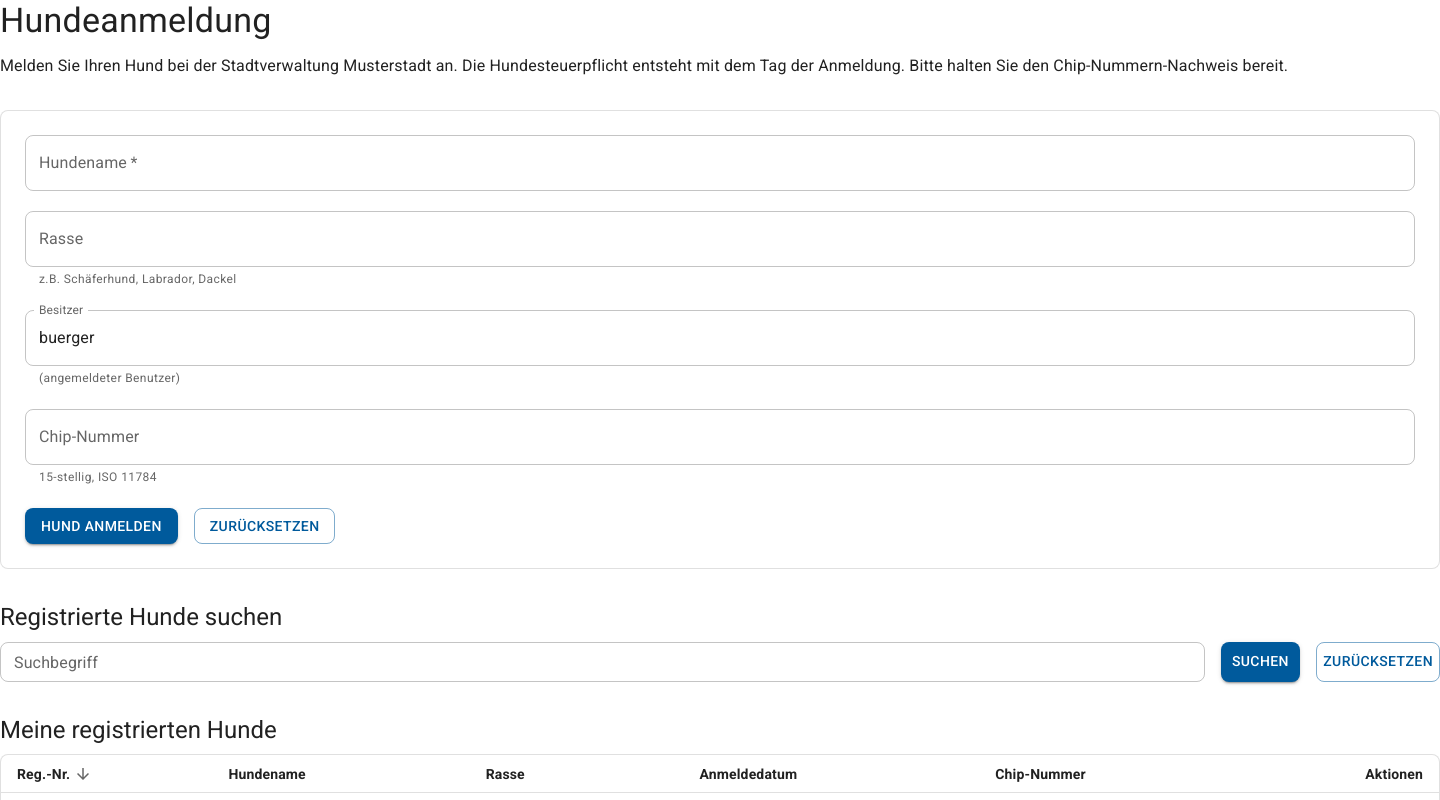
DogRegistrationPage › searches and resets the search
The width and height of the screenshot is (1440, 800).
Type "Bello" into the field labelled "Suchbegriff".
click(602, 662); type("Bello")  # box [0,642,1205,682]
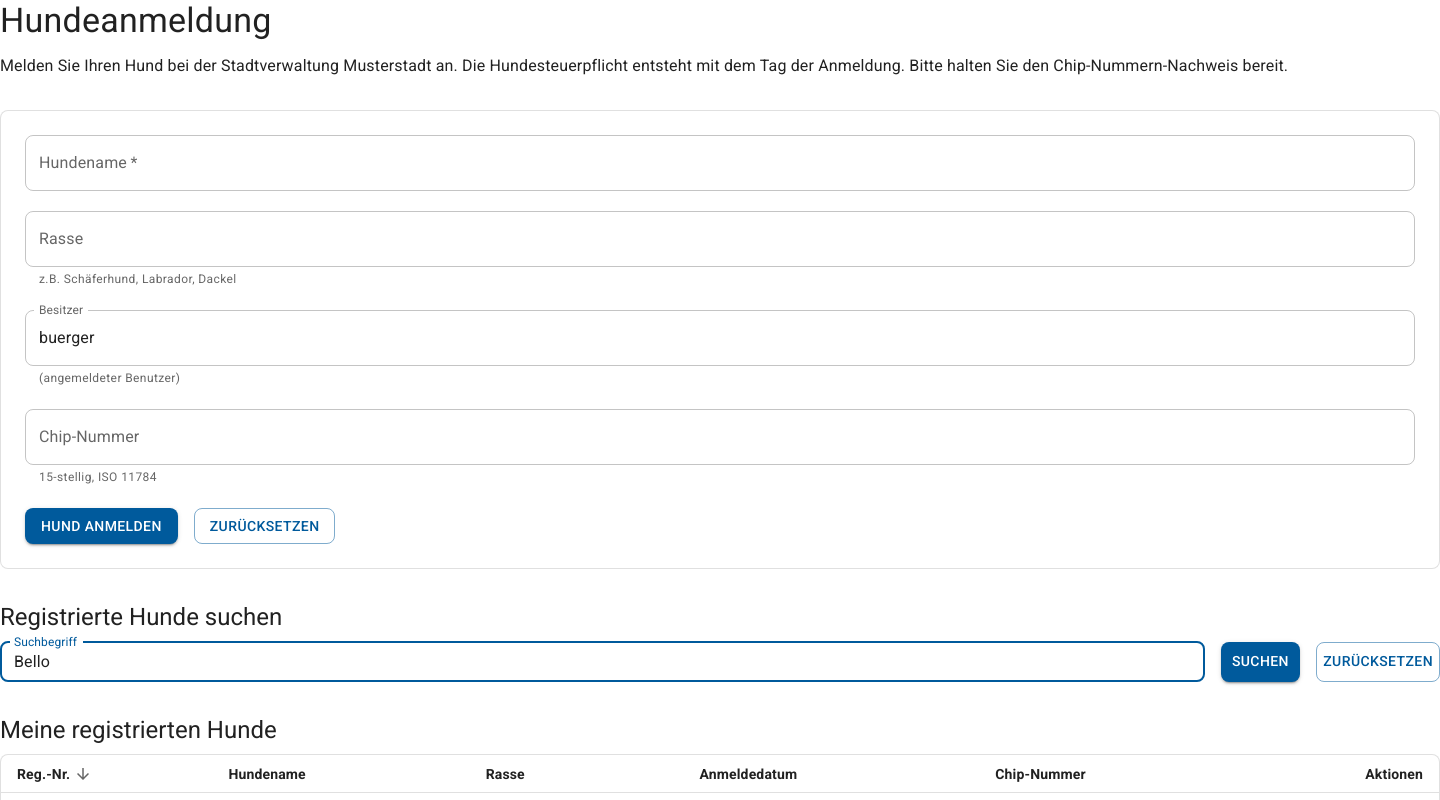
Click the button "Suchen".
click(1260, 662)  # box [1221,642,1300,682]
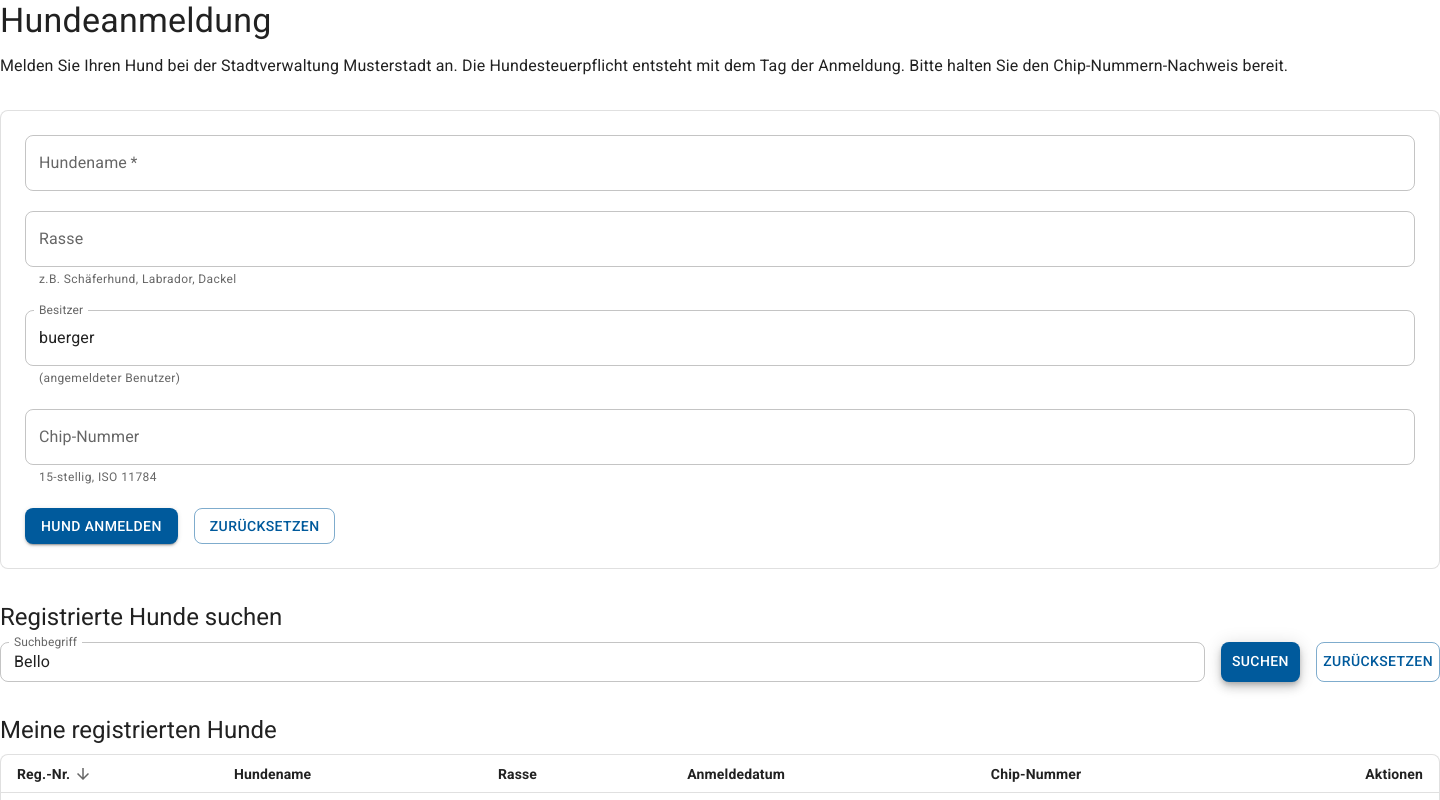
Click the button "Zurücksetzen" in the row of "Suchbegriff".
click(1378, 662)  # box [1316,642,1439,682]
(page scrolled)
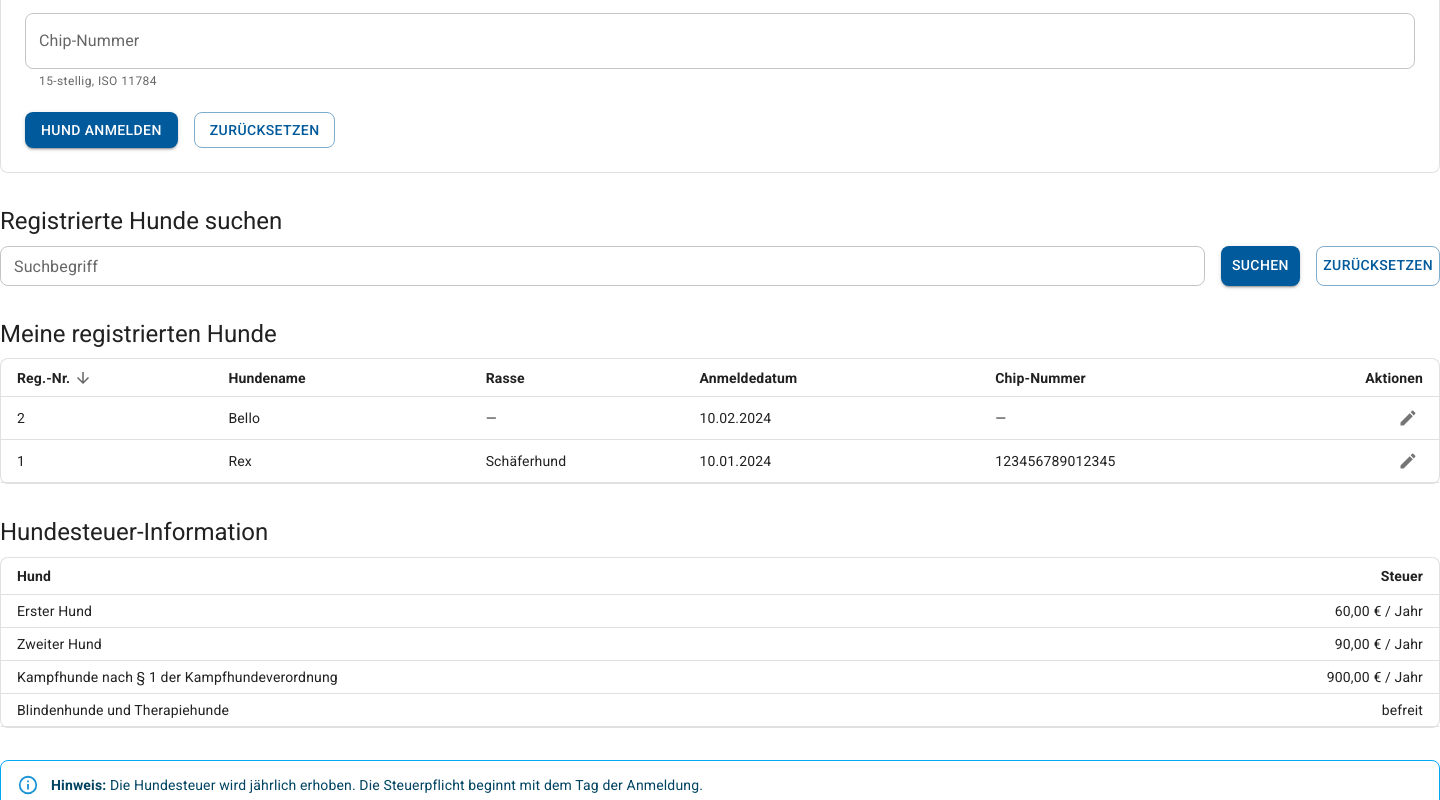
Result: the field labelled "Suchbegriff" is empty at [0,246,1205,286]
Result: the text "Rex" is shown at [212,440,470,483]
